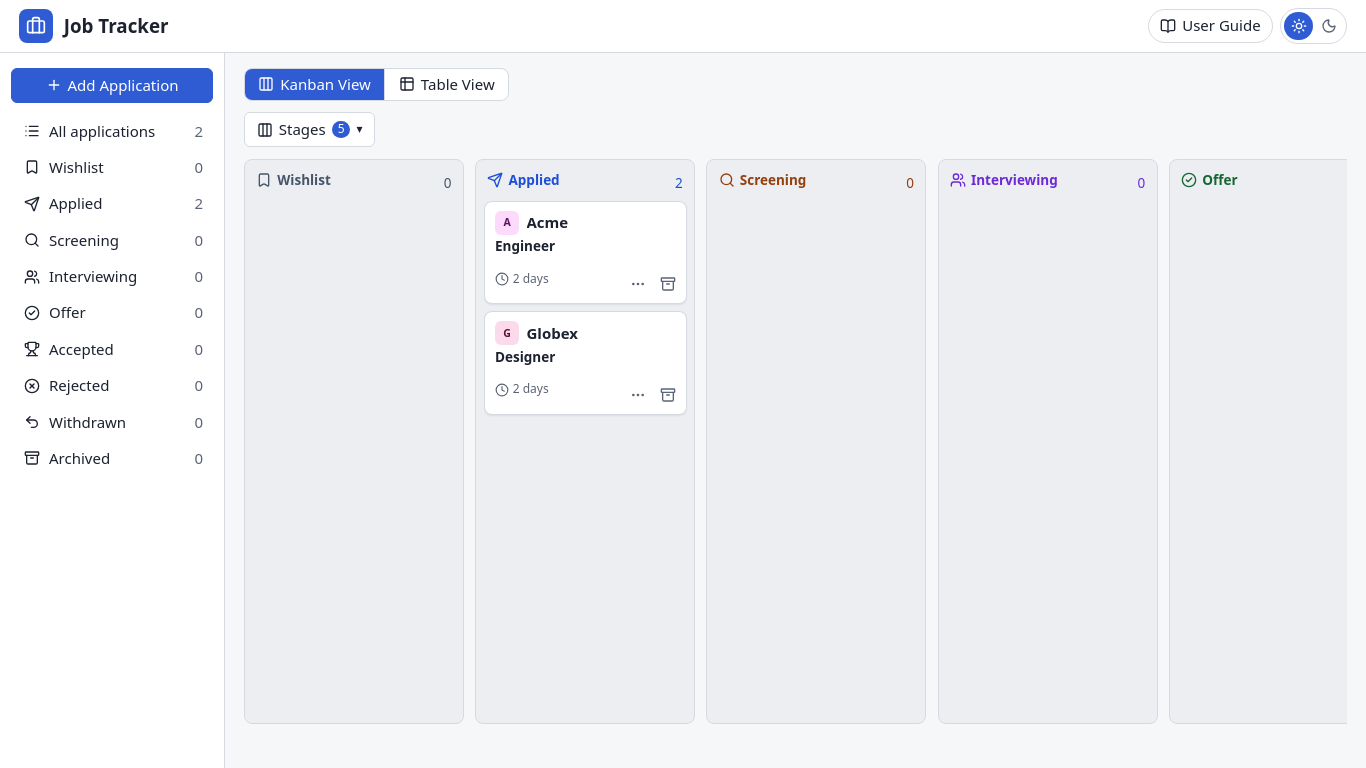
archiving from the board (spec 017, AC-2, AC-3) › puts the card back with a message when it can't be saved
This screenshot has width=1366, height=768.
Click the button named "Archive: Engineer at Acme" at (668, 284), box [653, 270, 683, 300]
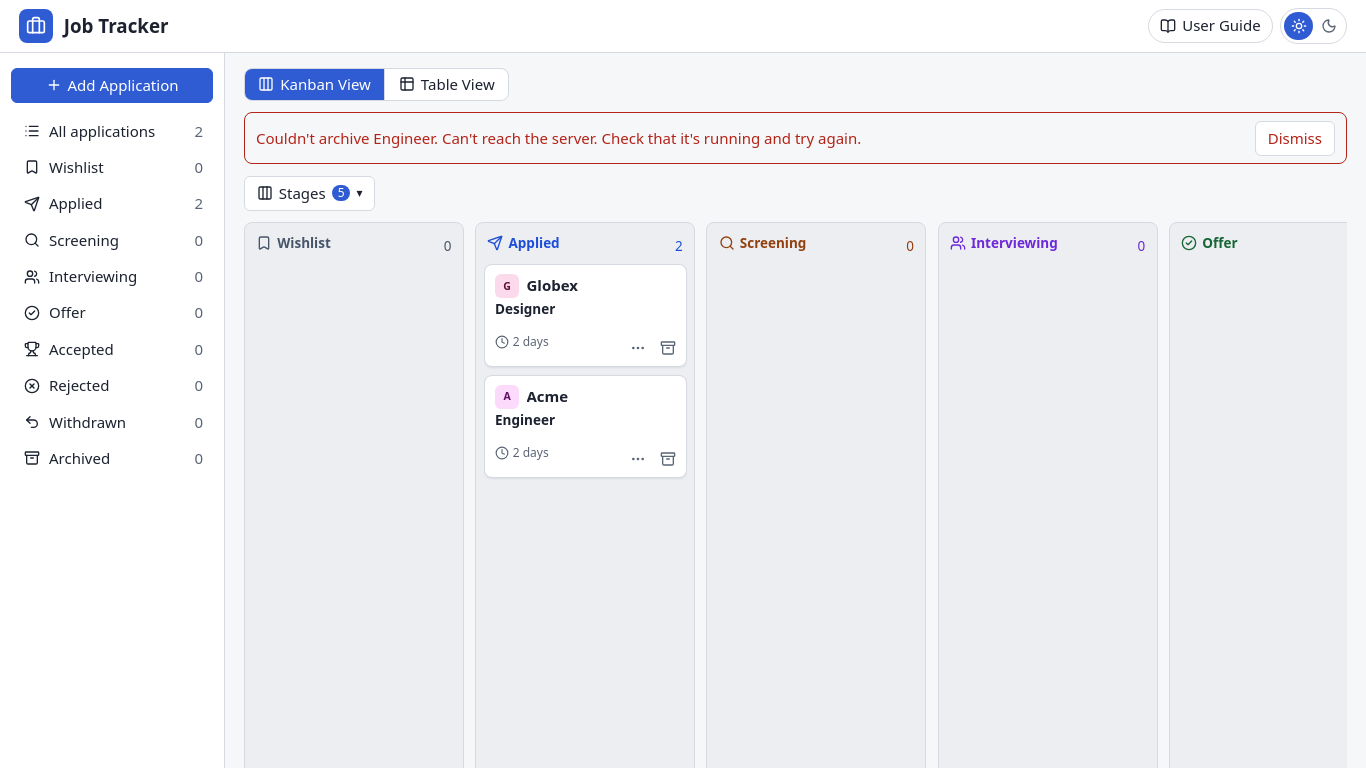
Expected: the button "A Acme Engineer 2 days" is shown, [484, 375, 686, 478]
Result: the message shows "Couldn't archive Engineer" at [256, 128, 861, 148]
